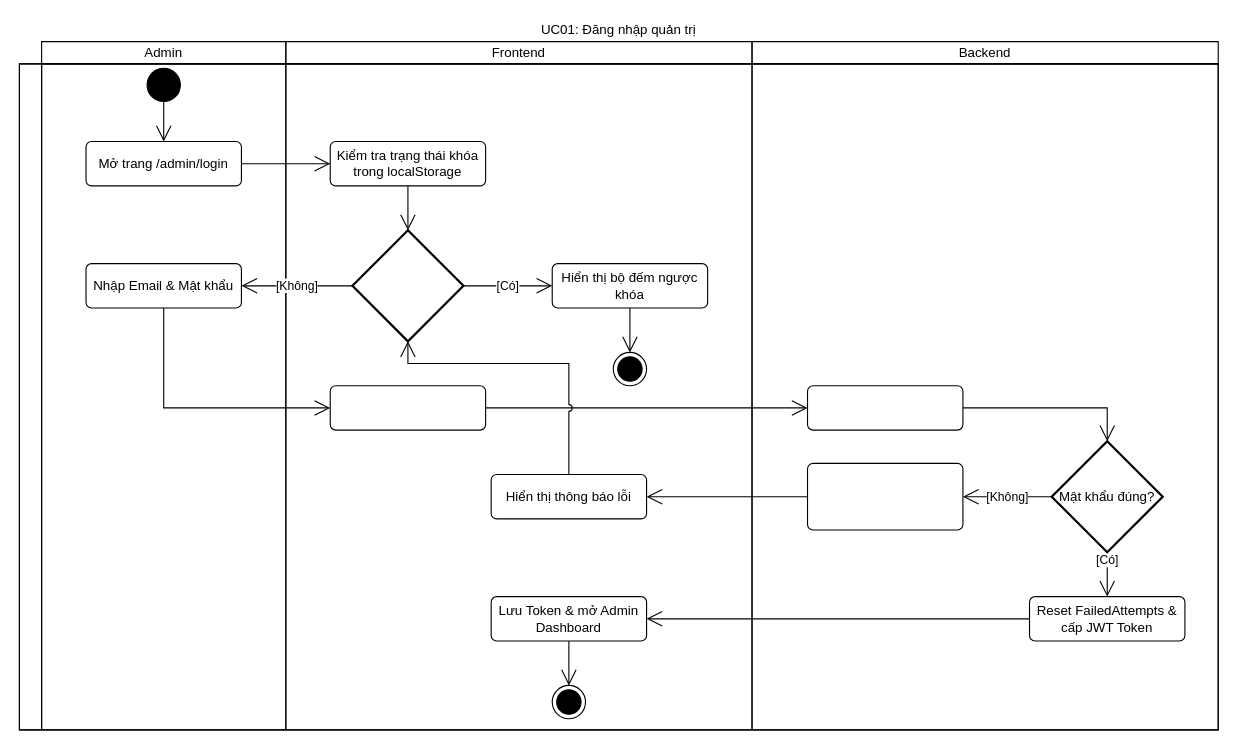
The diagram is 1238 pixels wide and 749 high, and some of its shapes have lost their labels. Here are the shapes that lost their labels. From the top down, the centre of each, then its label:
At point (407, 285): "Đang bị khóa 5 phút?".
At point (407, 407): "Gửi POST /api/auth/login".
At point (884, 407): "Kiểm tra LockedUntil & bcryptjs".
At point (884, 496): "Tăng FailedAttempts (Backend khóa 1p nếu >=5; Frontend khóa 5p nếu >=5)".
